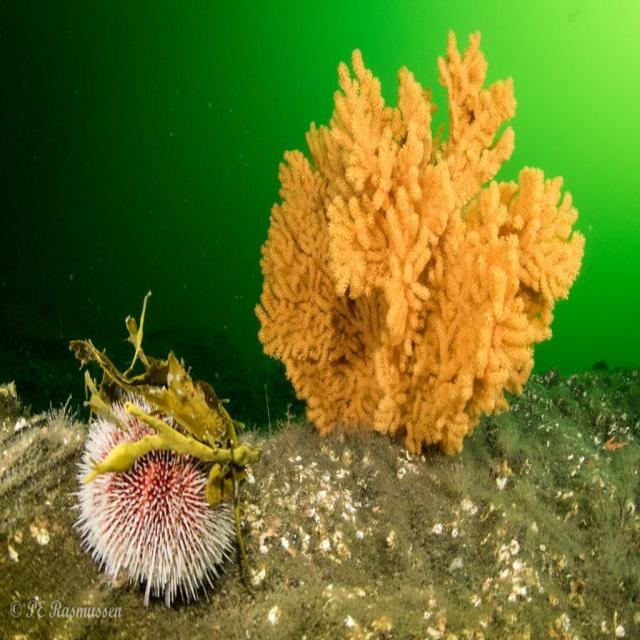Deniz Kestanesi: (66, 385, 242, 609)
